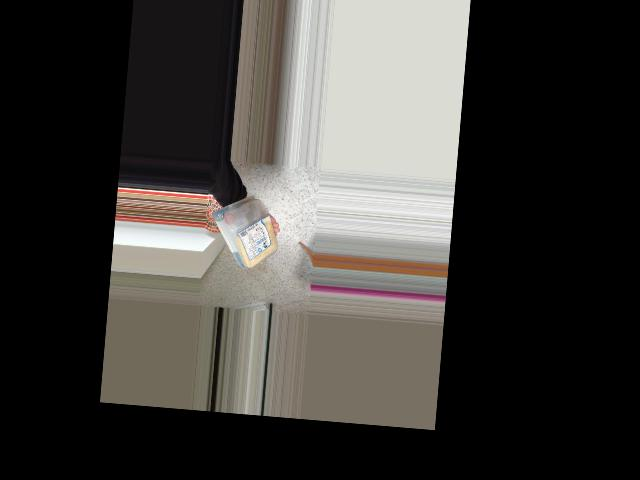cheese: (212, 193, 282, 274)
